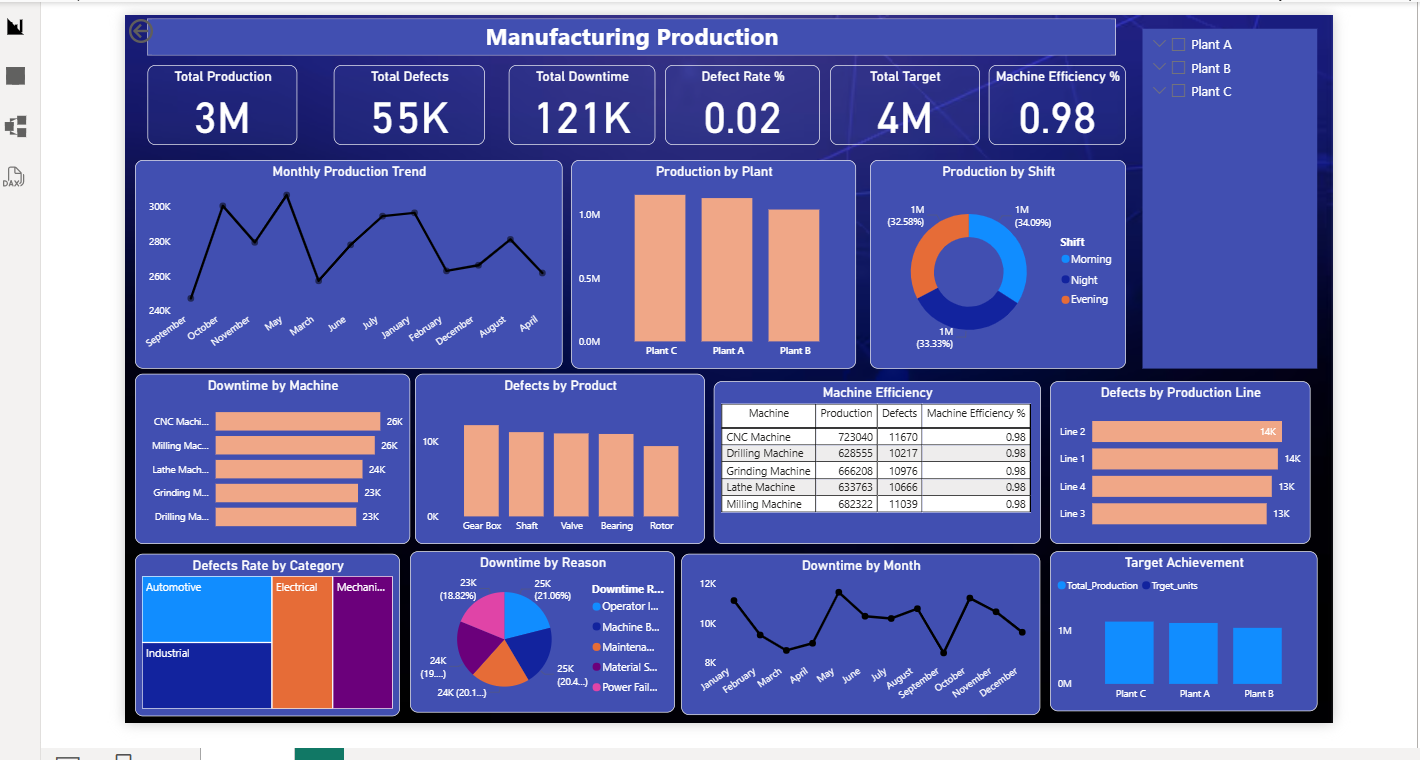

What the dashboard file says about the page in this screenshot:
{"tool":"powerbi","page":{"name":"Page 1","canvas":[1510,885],"ordinal":0},"visuals":[{"type":"card","title":"Total Production","fields":{"Values":["Manufacturing_Production.Total_Production"]},"box":[28.6,62.9,187.1,100],"z":0},{"type":"card","title":"Total Defects","fields":{"Values":["Manufacturing_Production.Total_Defects"]},"box":[261.4,62.9,188.6,100],"z":1000},{"type":"card","title":"Total Downtime","fields":{"Values":["Manufacturing_Production.TOTAL_Downtime"]},"box":[480,62.9,182.9,100],"z":2000},{"type":"card","title":"Defect Rate %","fields":{"Values":["Manufacturing_Production.Defect Rate %"]},"box":[675,62.5,193.8,100],"z":3000},{"type":"card","title":"Total Target ","fields":{"Values":["Manufacturing_Production.Target"]},"box":[881.4,62.9,187.1,100],"z":4000},{"type":"card","title":"Machine Efficiency %","fields":{"Values":["Manufacturing_Production.Machine Efficiency %"]},"box":[1080,62.9,171.4,100],"z":5000},{"type":"textbox","title":"Manufacturing Production","box":[28.6,4.3,1210,45.7],"z":6000},{"type":"lineChart","title":"Monthly Production Trend","fields":{"Category":["Manufacturing_Production.Month"],"Y":["Manufacturing_Production.Total_Production"]},"box":[12.5,181.2,534.4,260.9],"z":7000},{"type":"clusteredColumnChart","title":"Production by Plant","fields":{"Category":["Manufacturing_Production.Plant"],"Y":["Manufacturing_Production.Total_Production"]},"box":[557.8,181.2,356.2,260.9],"z":8000},{"type":"donutChart","title":"Production by Shift","fields":{"Category":["Manufacturing_Production.Shift"],"Y":["Manufacturing_Production.Total_Production"]},"box":[931.2,181.2,320.3,260.9],"z":9000},{"type":"barChart","title":"Downtime by Machine","fields":{"Category":["Manufacturing_Production.Machine"],"Y":["Manufacturing_Production.TOTAL_Downtime"]},"box":[12.5,448.4,343.8,212.5],"z":10000},{"type":"tableEx","title":"Machine  Efficiency ","fields":{"Values":["Manufacturing_Production.Machine","Manufacturing_Production.Total_Production","Sum(Manufacturing_Production.Defective Units)","Manufacturing_Production.Machine Efficiency %"]},"box":[735.7,457.1,408.6,202.9],"z":11000},{"type":"actionButton","box":[0,0,100,40],"z":12000},{"type":"columnChart","title":"Defects by Product","fields":{"Category":["Manufacturing_Production.Product"],"Y":["Manufacturing_Production.Total_Defects"]},"box":[362.5,448.4,362.5,212.5],"z":13000},{"type":"barChart","title":"Defects by Production Line","fields":{"Category":["Manufacturing_Production.Production Line"],"Y":["Manufacturing_Production.Total_Defects"]},"box":[1155.7,457.1,325.7,202.9],"z":14000},{"type":"treemap","title":"Defects Rate by Category","fields":{"Group":["Manufacturing_Production.Category"],"Values":["Manufacturing_Production.Total_Defects"]},"box":[12.9,672.9,331.4,202.9],"z":15000},{"type":"pieChart","title":"Downtime by Reason","fields":{"Category":["Manufacturing_Production.Downtime Reason"],"Y":["Manufacturing_Production.TOTAL_Downtime"]},"box":[355.7,670,331.4,201.4],"z":16000},{"type":"lineChart","title":"Downtime by Month","fields":{"Y":["Manufacturing_Production.TOTAL_Downtime"],"Category":["Manufacturing_Production.Date.Variation.Date Hierarchy.Month"]},"box":[695.7,672.9,448.6,201.4],"z":17000},{"type":"columnChart","title":"Target Achievement","fields":{"Category":["Manufacturing_Production.Plant"],"Y":["Manufacturing_Production.Total_Production","Manufacturing_Production.Total_Trget_units"]},"box":[1155.7,670,334.3,200],"z":18000},{"type":"slicer","fields":{"Values":["Manufacturing_Production.Plant","Manufacturing_Production.Machine","Manufacturing_Production.Product","Manufacturing_Production.Shift"]},"box":[1271.9,17.2,218.8,425],"z":19000}]}

Visuals, with their boxes in screenshot pixels (x1, y1, x2, y2):
"Total Production" card: crop(134, 55, 288, 137)
"Total Defects" card: crop(325, 55, 479, 137)
"Total Downtime" card: crop(504, 55, 654, 137)
"Defect Rate %" card: crop(664, 55, 822, 137)
"Total Target " card: crop(833, 55, 986, 137)
"Machine Efficiency %" card: crop(995, 55, 1136, 137)
"Manufacturing Production" textbox: crop(134, 7, 1125, 45)
"Monthly Production Trend" lineChart: crop(121, 152, 559, 366)
"Production by Plant" clusteredColumnChart: crop(568, 152, 859, 366)
"Production by Shift" donutChart: crop(873, 152, 1136, 366)
"Downtime by Machine" barChart: crop(121, 371, 403, 545)
"Machine  Efficiency " tableEx: crop(713, 378, 1048, 544)
actionButton: crop(111, 4, 193, 36)
"Defects by Product" columnChart: crop(408, 371, 705, 545)
"Defects by Production Line" barChart: crop(1057, 378, 1324, 544)
"Defects Rate by Category" treemap: crop(122, 555, 393, 721)
"Downtime by Reason" pieChart: crop(402, 552, 674, 717)
"Downtime by Month" lineChart: crop(681, 555, 1048, 720)
"Target Achievement" columnChart: crop(1057, 552, 1331, 716)
slicer - Manufacturing_Production.Plant x Manufacturing_Production.Machine: crop(1152, 18, 1331, 366)
